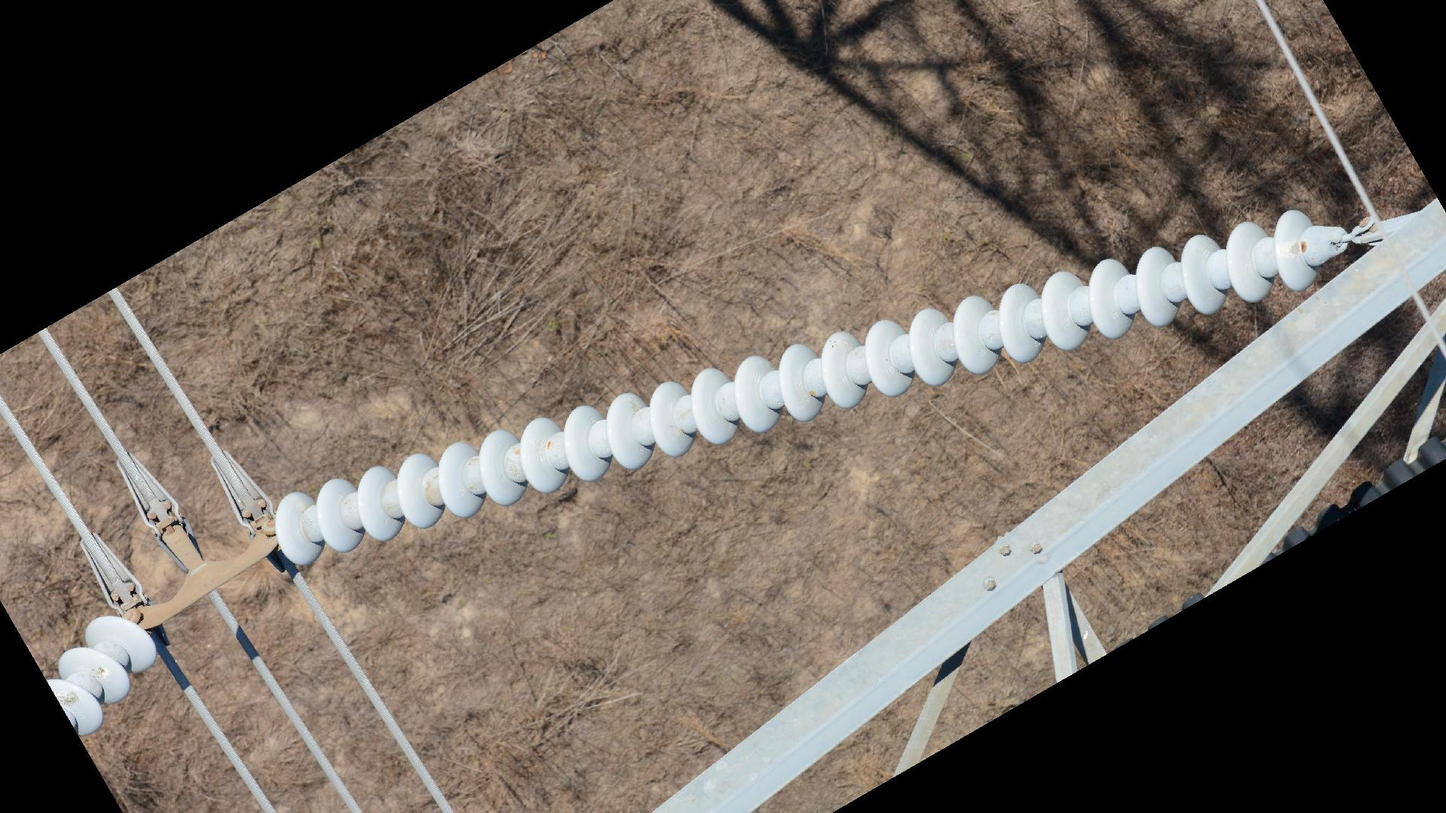insulator: (270, 203, 1319, 574), (42, 611, 162, 735)
insulator_flashover: (1276, 239, 1301, 260)
